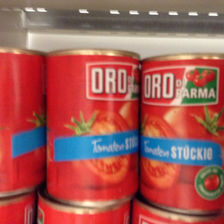tomato_sauce: (45, 48, 142, 205), (141, 52, 224, 215)
